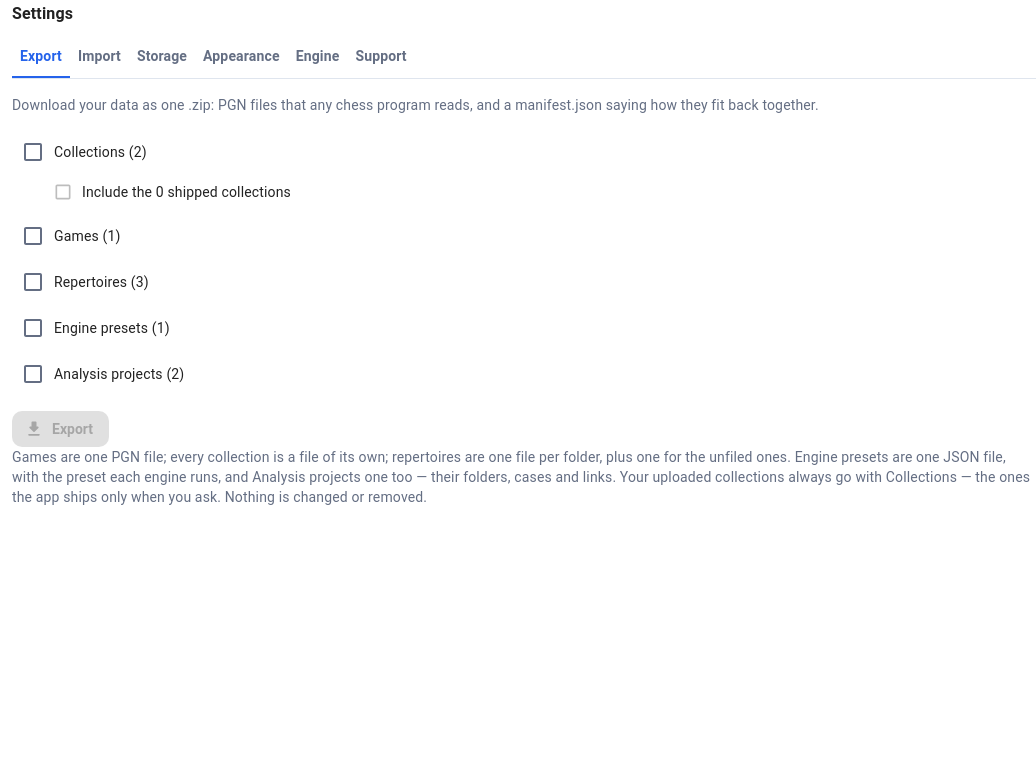
the Export tab › downloads the engine presets, with the one each engine runs (CTA-179)
This screenshot has width=1036, height=768.
Click the checkbox labelled "Engine presets (1)": [95, 328] box [21,316,170,340]
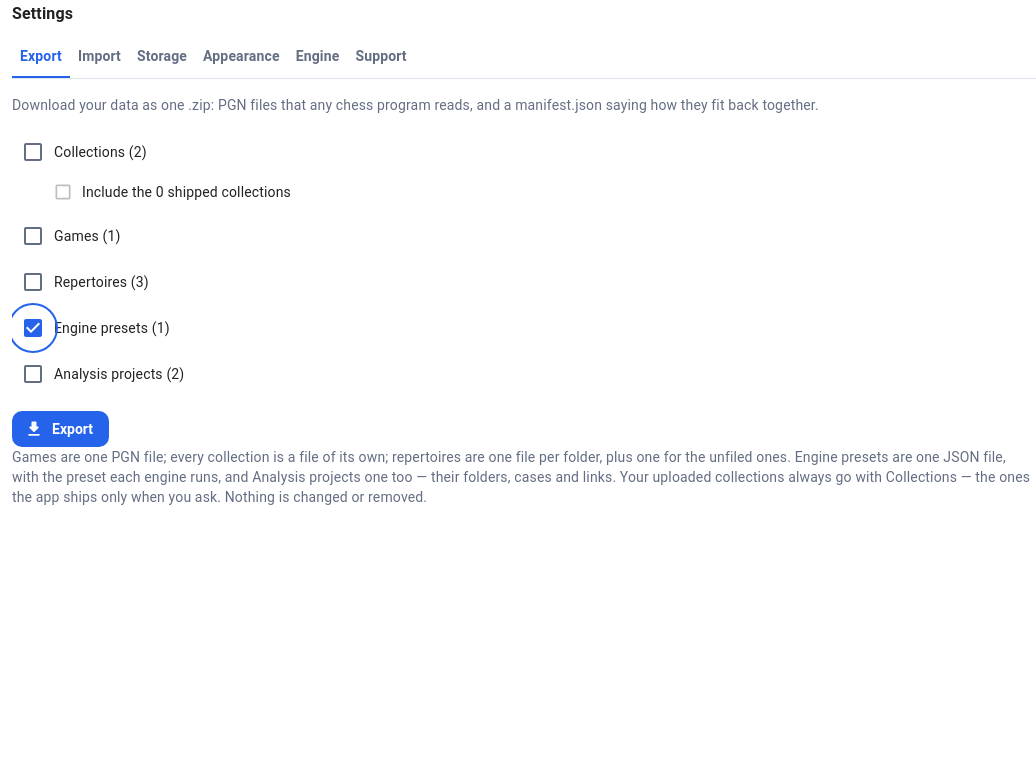
Click the button with test id "settings-export-run": [60, 429] box [12,410,109,447]
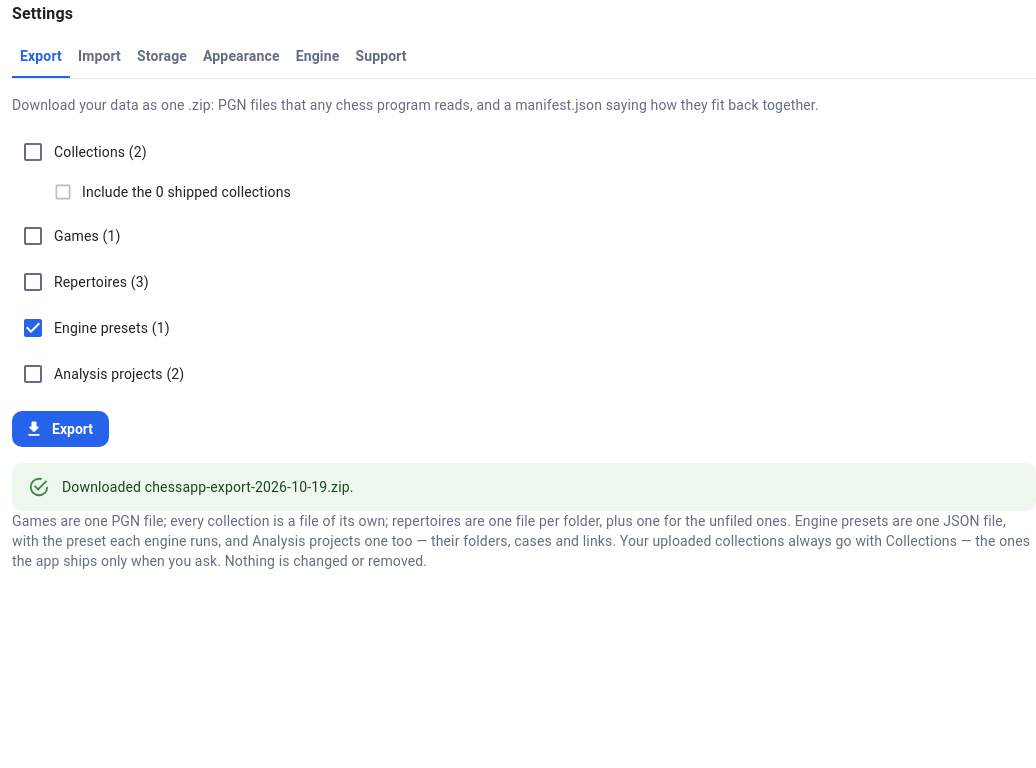
Check: the message "Downloaded chessapp-export-2026-10-19.zip." is shown, box [12,463,1035,511]
